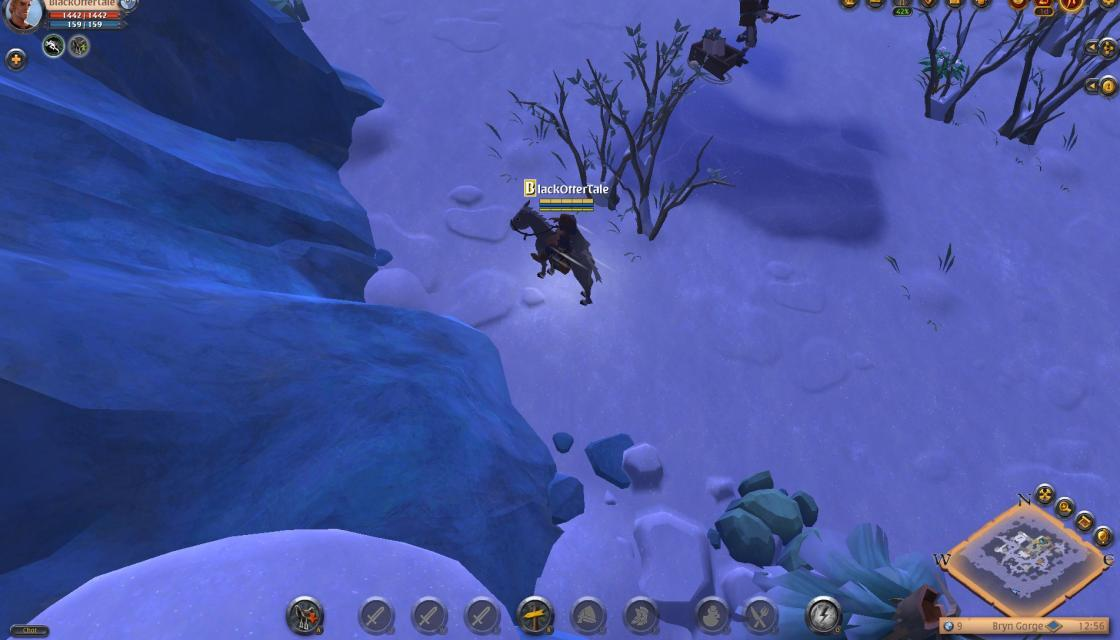sandstone: (716, 466, 822, 564)
